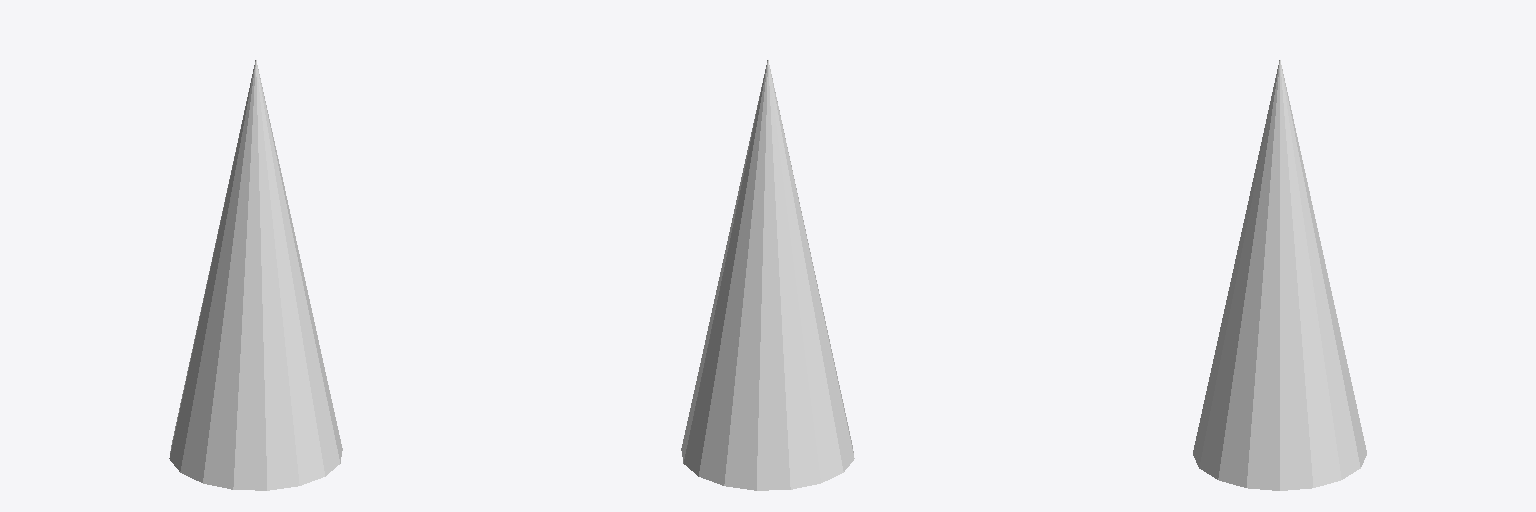
Rendered from triangle_reversed.obj.
3 views of the same model, side by side, from view 1: azimuth 30°, elevation 25°; view 2: azimuth 150°, elevation 25°; view 3: azimuth 270°, elevation 25° (orthographic).
Bounding box in the file's own units: 0.2 × 0.5 × 0.2.